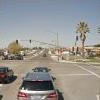Car: (19, 61, 83, 100)
